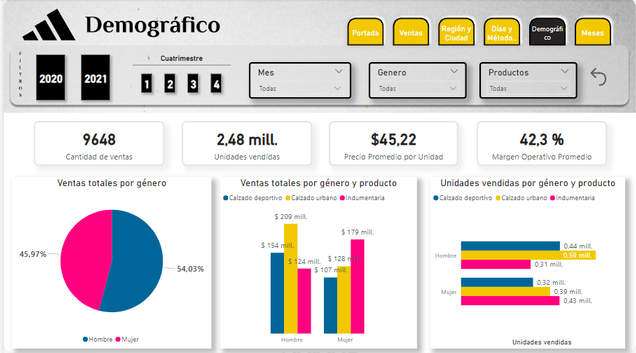

What the dashboard file says about the page in this screenshot:
{"tool":"powerbi","page":{"name":"Demográfico","canvas":[1280,720],"ordinal":4},"visuals":[{"type":"pieChart","title":"Ventas totales por género","fields":{"Y":["Sum(Ventas$.ventas_totales)"],"Category":["Genero$.genero"]},"box":[16.9,360.6,403,347.1],"z":0},{"type":"clusteredColumnChart","title":"Ventas totales por género y producto","fields":{"Y":["Medidas.Ventas totales"],"Category":["Genero.genero"],"Series":["Producto.producto"]},"box":[438.5,360.6,397.9,347.1],"z":1000},{"type":"clusteredBarChart","title":"Unidades vendidas por género y producto","fields":{"Category":["Genero.genero"],"Y":["Medidas.Unidades vendidas"],"Series":["Producto.producto"]},"box":[863.5,360.6,394.5,347.1],"z":2000},{"type":"card","fields":{"Values":["Medidas.Unidades vendidas"]},"box":[360.6,247.2,264.1,91.4],"z":3000},{"type":"card","fields":{"Values":["Medidas.Cantidad de ventas"]},"box":[61,247.2,264.1,91.4],"z":4000},{"type":"card","fields":{"Values":["Medidas.Precio Promedio por Unidad"]},"box":[656.9,247.2,262.4,91.4],"z":5000},{"type":"card","fields":{"Values":["Medidas.Margen Operativo Promedio"]},"box":[956.6,247.2,264.1,91.4],"z":6000},{"type":"pageNavigator","box":[686,28.3,555.6,75.1],"z":7000},{"type":"advancedSlicerVisual","fields":{"Values":["Calendario.Año"]},"box":[48.3,94.8,184.5,127.6],"z":8000},{"type":"slicer","fields":{"Values":["Calendario.Mes"]},"box":[496.6,127.6,206.9,74.1],"z":9000},{"type":"advancedSlicerVisual","fields":{"Values":["Calendario.Cuatrimestre"]},"box":[261.3,112,198.7,94.7],"z":10000},{"type":"slicer","fields":{"Values":["Genero.genero"]},"box":[737.9,127.6,198.3,74.1],"z":11000},{"type":"slicer","fields":{"Values":["Producto.producto"]},"box":[962.1,127.6,198.3,74.1],"z":12000},{"type":"actionButton","box":[1179.4,133.6,62.7,47.8],"z":13000}]}

Visuals, with their boxes in screenshot pixels (x1, y1, x2, y2), scaled from the page's 1280x720 canvas onto the 636x353 screenshot:
"Ventas totales por género" pieChart: bbox(8, 177, 209, 347)
"Ventas totales por género y producto" clusteredColumnChart: bbox(218, 177, 416, 347)
"Unidades vendidas por género y producto" clusteredBarChart: bbox(429, 177, 625, 347)
card - Medidas.Unidades vendidas: bbox(179, 121, 310, 166)
card - Medidas.Cantidad de ventas: bbox(30, 121, 162, 166)
card - Medidas.Precio Promedio por Unidad: bbox(326, 121, 457, 166)
card - Medidas.Margen Operativo Promedio: bbox(475, 121, 607, 166)
pageNavigator: bbox(341, 14, 617, 51)
advancedSlicerVisual - Calendario.Año: bbox(24, 46, 116, 109)
slicer - Calendario.Mes: bbox(247, 63, 350, 99)
advancedSlicerVisual - Calendario.Cuatrimestre: bbox(130, 55, 229, 101)
slicer - Genero.genero: bbox(367, 63, 465, 99)
slicer - Producto.producto: bbox(478, 63, 577, 99)
actionButton: bbox(586, 66, 617, 89)
